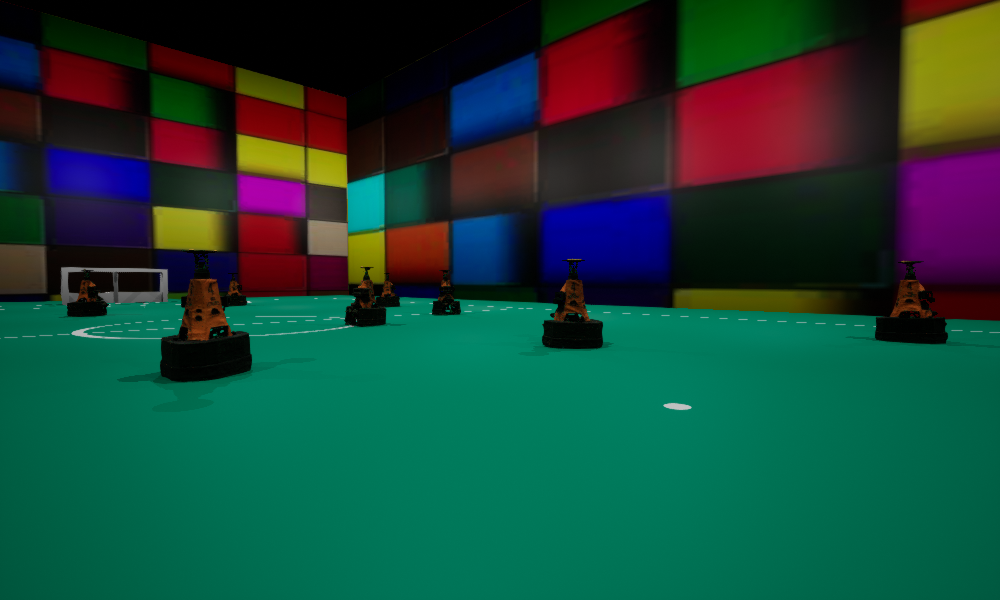o: (160, 249, 251, 381), (875, 261, 947, 343), (542, 259, 602, 348), (344, 266, 385, 325), (67, 269, 108, 316), (432, 270, 460, 314), (376, 273, 399, 306), (225, 273, 246, 305)
